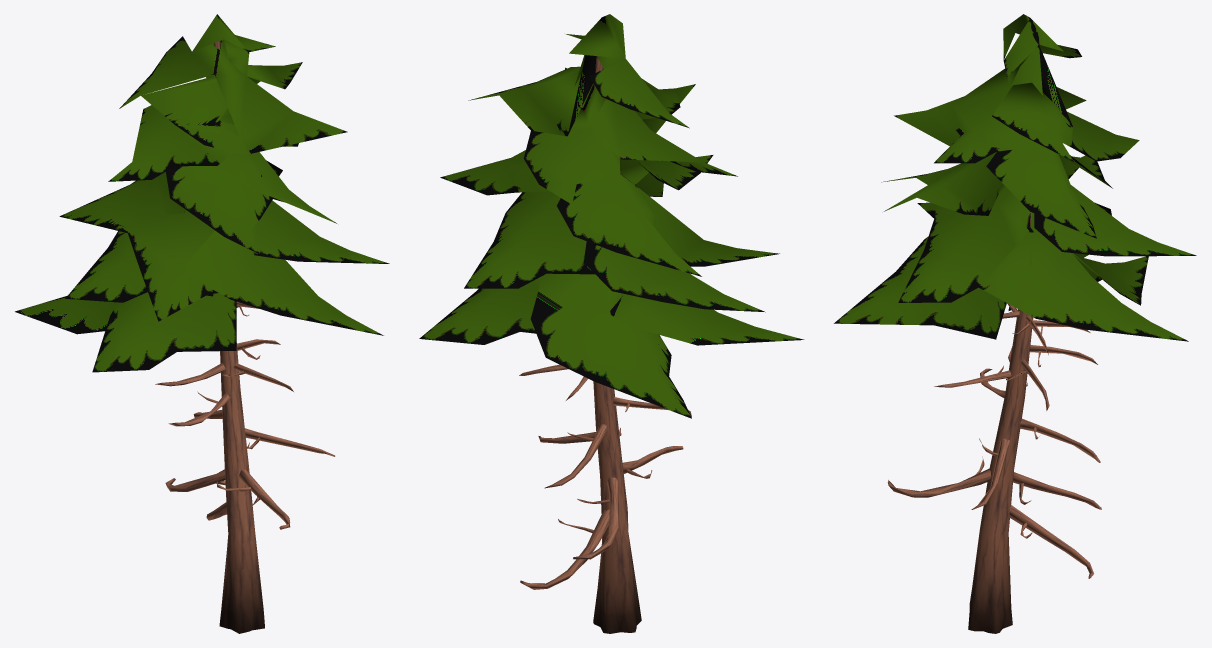
Rendered from Pine_3.gltf.
3 views of the same model, side by side, from view 1: azimuth 30°, elevation 25°; view 2: azimuth 150°, elevation 25°; view 3: azimuth 270°, elevation 25° (orthographic). The views are drawn at different scales.
Parts seen in each view (by area): view 1: Pine_3; view 2: Pine_3; view 3: Pine_3.
Part boxes in pixels (x1,y1,x2,y2): Pine_3: (15,14,389,633); Pine_3: (419,14,804,633); Pine_3: (834,14,1196,633).
Size of the model in its own units: 3.61 by 7.33 by 4.
2 materials, 2 textured.
